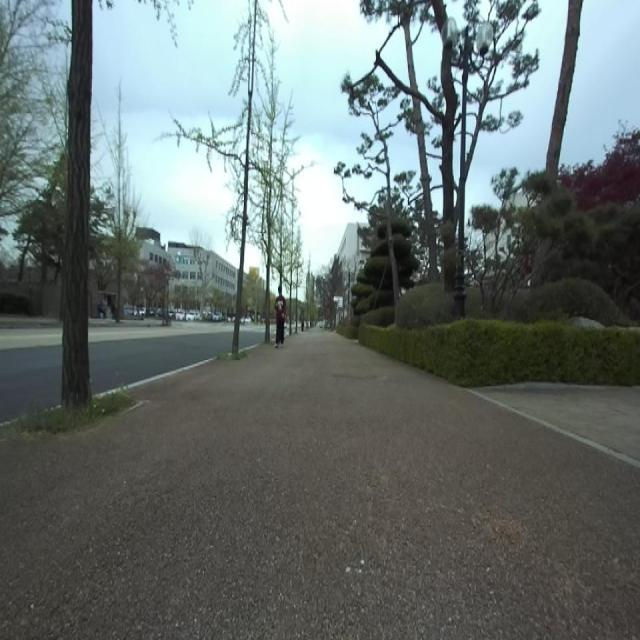sidewalk: (0, 332, 640, 638), (94, 357, 216, 398), (0, 420, 17, 428)
